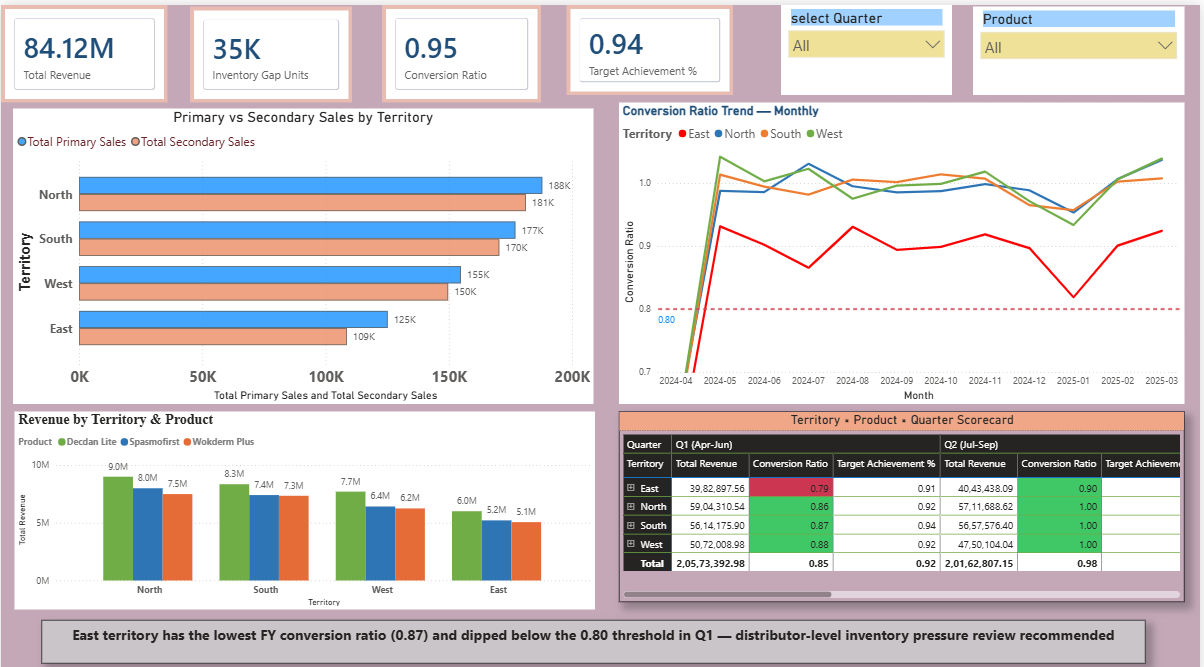

Layout of this report page (visuals, bound fields, positions):
{"tool":"powerbi","page":{"name":"Territory Analysis","canvas":[1600,900],"ordinal":1},"visuals":[{"type":"cardVisual","fields":{"Data":["pharma_sales.Conversion Ratio"]},"box":[508,0,212,130],"z":0},{"type":"cardVisual","fields":{"Data":["pharma_sales.Target Achievement %"]},"box":[754,0,222,120],"z":1000},{"type":"cardVisual","fields":{"Data":["pharma_sales.Total Revenue"]},"box":[0,0,222,130],"z":2000},{"type":"slicer","fields":{"Values":["pharma_sales.Quarter"]},"box":[1040,0,228,120],"z":3000},{"type":"slicer","fields":{"Values":["pharma_sales.Product"]},"box":[1296,2,282,118],"z":4000},{"type":"clusteredBarChart","title":"Primary vs Secondary Sales by Territory","fields":{"Category":["pharma_sales.Territory"],"Y":["pharma_sales.Total Primary Sales","pharma_sales.Total Secondary Sales"]},"box":[16,138,774,394],"z":5000},{"type":"lineChart","title":"Conversion Ratio Trend — Monthly","fields":{"Category":["pharma_sales.Month"],"Y":["pharma_sales.Conversion Ratio"],"Series":["pharma_sales.Territory"]},"box":[824,130,754,402],"z":6000},{"type":"clusteredColumnChart","title":"Revenue by Territory & Product","fields":{"Category":["pharma_sales.Territory"],"Y":["pharma_sales.Total Revenue"],"Series":["pharma_sales.Product"]},"box":[18,542,774,264],"z":7000},{"type":"pivotTable","title":"Territory × Product × Quarter Scorecard","fields":{"Rows":["pharma_sales.Territory","pharma_sales.Product"],"Columns":["pharma_sales.Quarter"],"Values":["pharma_sales.Total Revenue","pharma_sales.Conversion Ratio","pharma_sales.Target Achievement %"]},"box":[824,542,754,254],"z":8000},{"type":"cardVisual","fields":{"Data":["pharma_sales.Inventory Gap Units"]},"box":[252,2,216,128],"z":9000},{"type":"textbox","box":[54,820,1472,58],"z":10000}]}

Visuals, with their boxes in screenshot pixels (x1, y1, x2, y2), scaled from the page's 1600x900 canvas onto the 1204x667 screenshot:
cardVisual - pharma_sales.Conversion Ratio: 382, 0, 542, 96
cardVisual - pharma_sales.Target Achievement %: 567, 0, 734, 89
cardVisual - pharma_sales.Total Revenue: 0, 0, 167, 96
slicer - pharma_sales.Quarter: 783, 0, 954, 89
slicer - pharma_sales.Product: 975, 1, 1187, 89
"Primary vs Secondary Sales by Territory" clusteredBarChart: 12, 102, 594, 394
"Conversion Ratio Trend — Monthly" lineChart: 620, 96, 1187, 394
"Revenue by Territory & Product" clusteredColumnChart: 14, 402, 596, 597
"Territory × Product × Quarter Scorecard" pivotTable: 620, 402, 1187, 590
cardVisual - pharma_sales.Inventory Gap Units: 190, 1, 352, 96
textbox: 41, 608, 1148, 651
